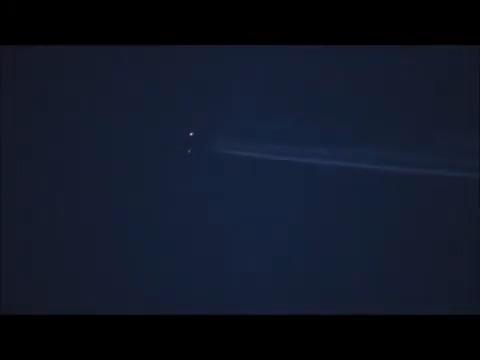Plane: (168, 128, 322, 159)
